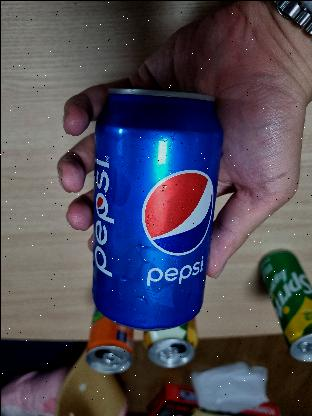Can: (90, 87, 222, 327)
